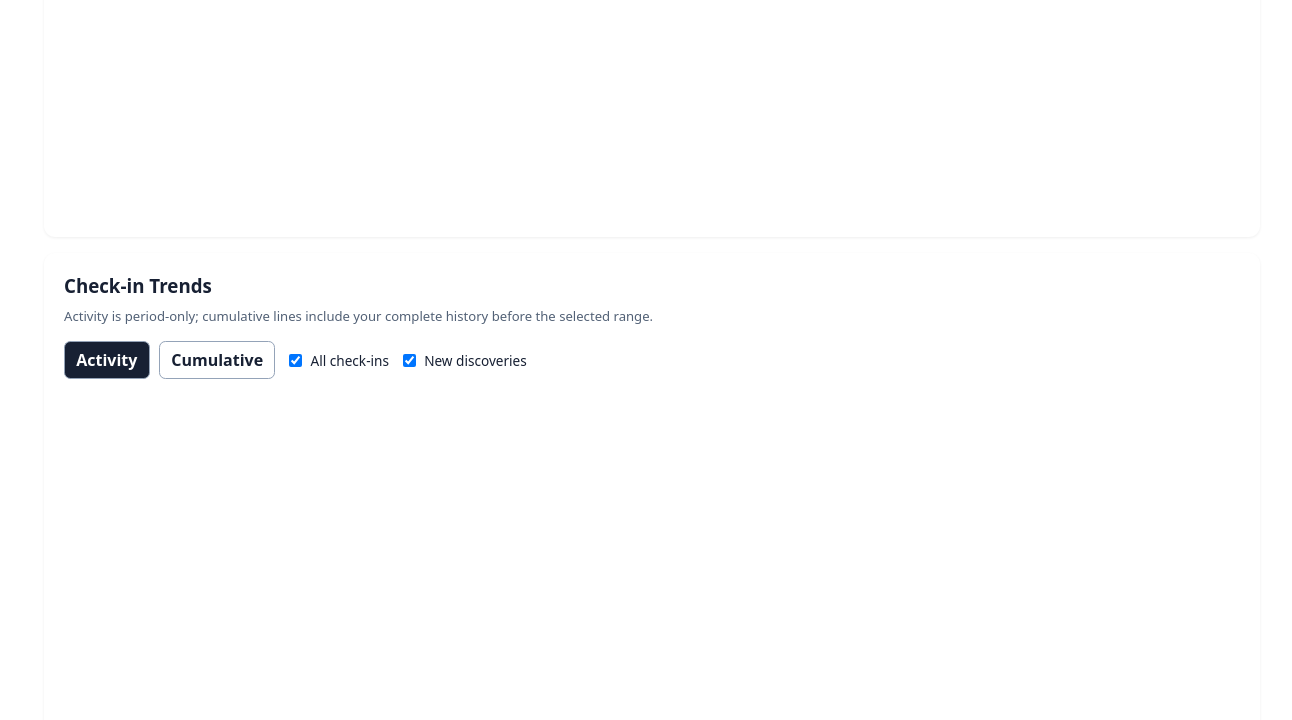
supports cumulative/activity controls and period changes
The width and height of the screenshot is (1292, 720).
(page scrolled)
Click the button "Cumulative": (217, 360) [159, 341, 275, 379]
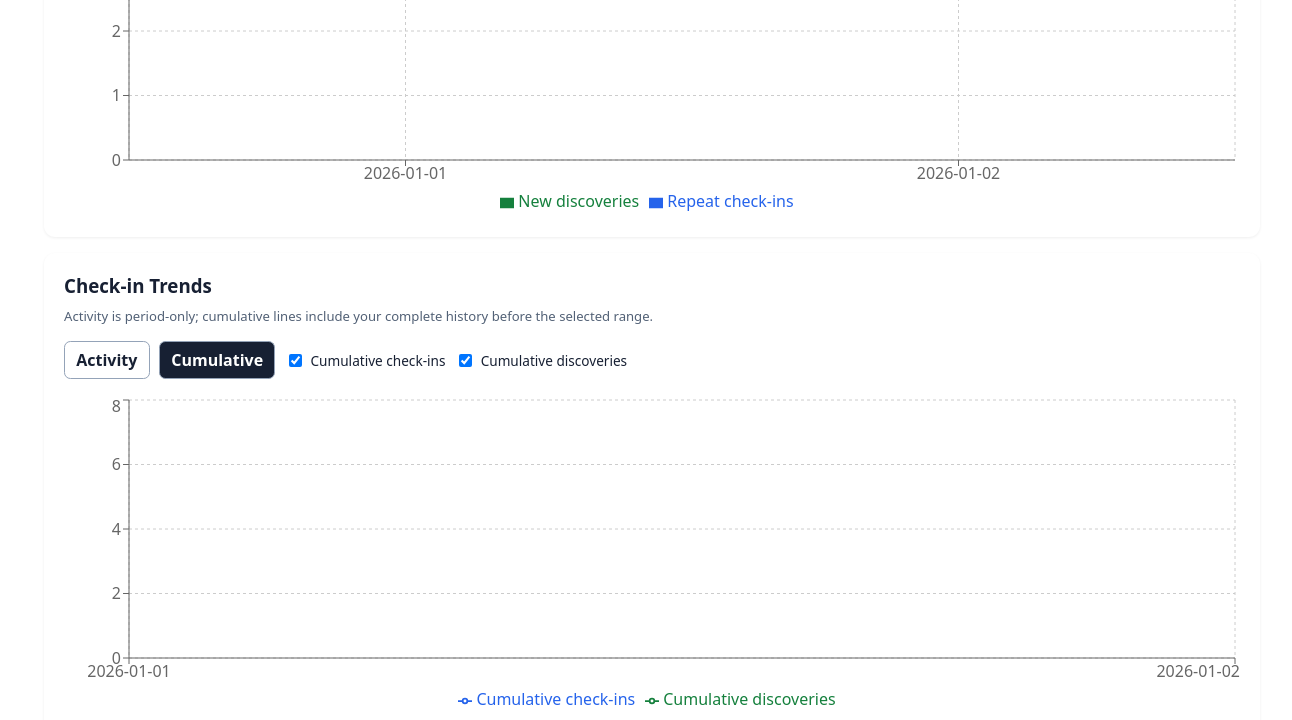
expect the button "Cumulative" is pressed: met, box [159, 341, 275, 379]
Click the checkbox labelled "Cumulative discoveries": (466, 360) [459, 354, 472, 366]
(page scrolled)
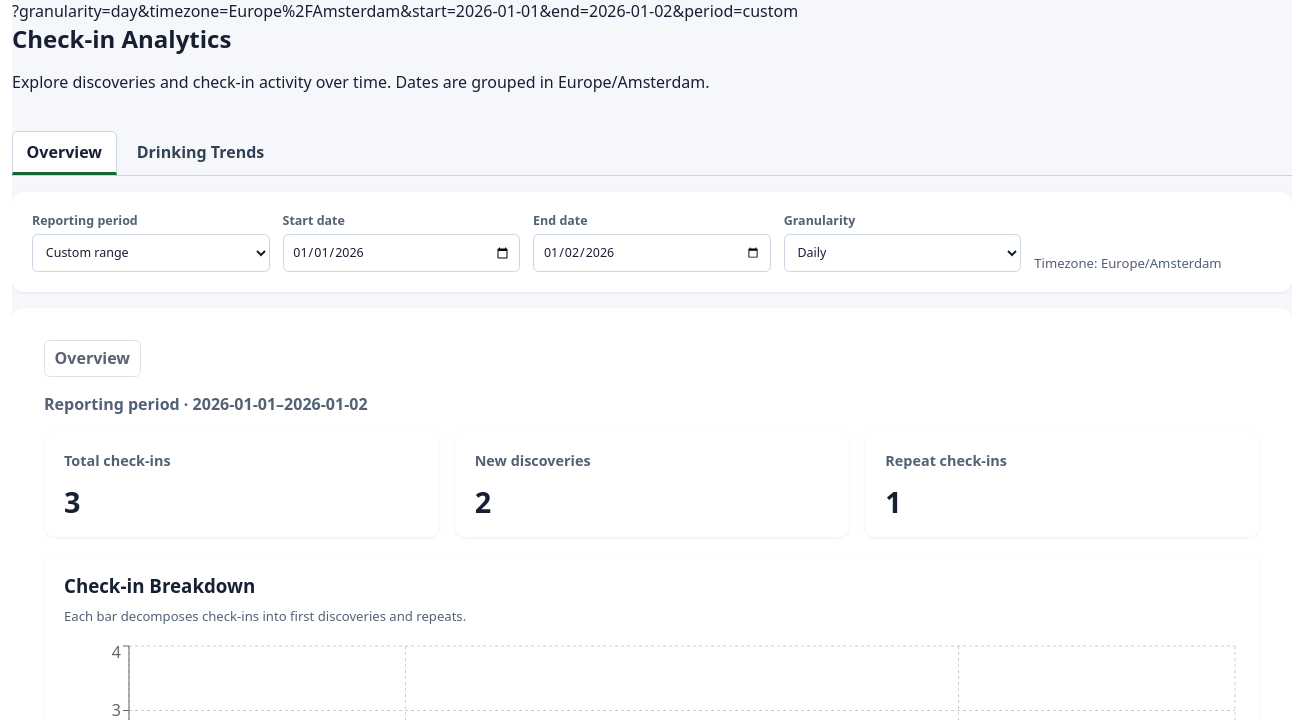
Select "Last 30 days" in the dropdown labelled "Reporting period": (151, 253) [32, 234, 270, 272]
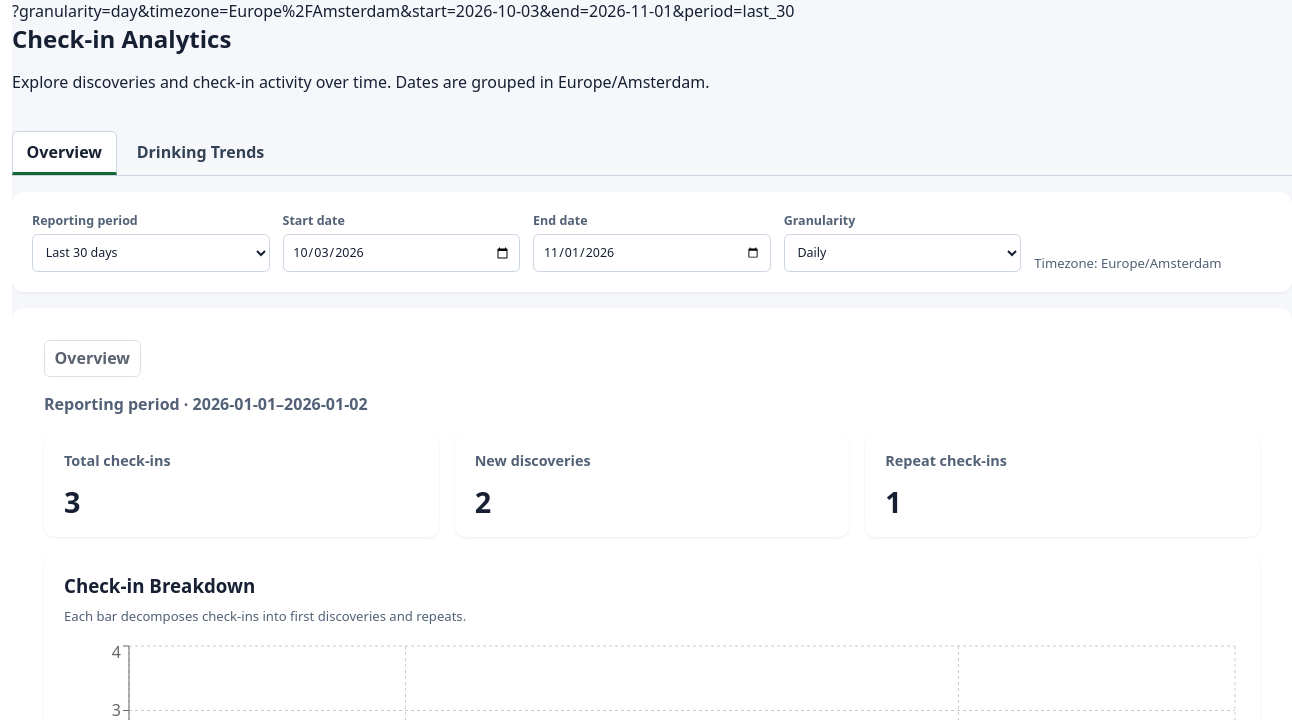
expect the text named "Current query" shows "period=last_30": met, box [12, 0, 794, 22]
